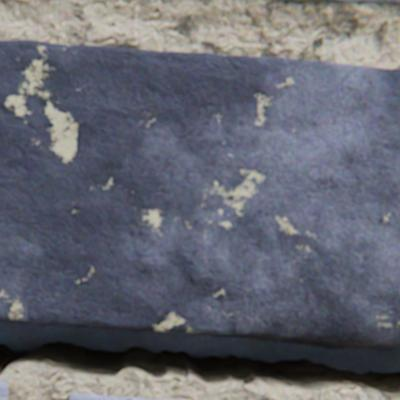brick: (0, 41, 399, 339), (70, 393, 182, 399), (276, 0, 399, 5), (0, 381, 8, 399)
crack: (0, 319, 399, 399)
